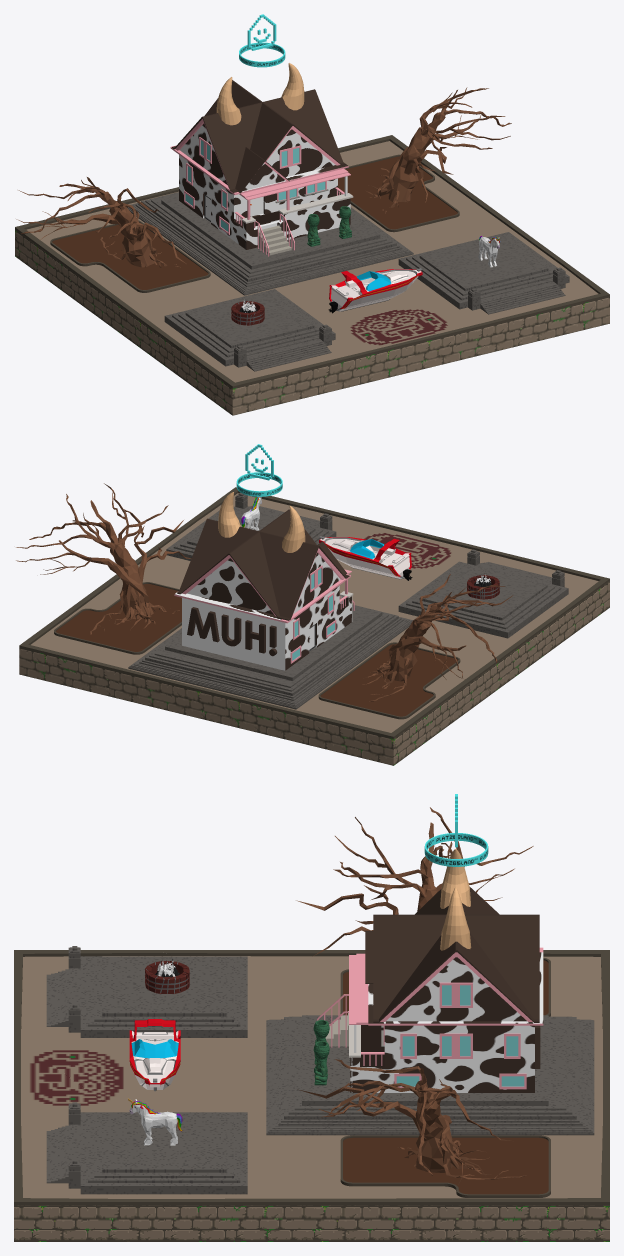
The picture shows the model from 3 angles, top to bottom: view 1: azimuth 30°, elevation 25°; view 2: azimuth 150°, elevation 25°; view 3: azimuth 270°, elevation 25°; orthographic projection. The views are drawn at different scales.
Parts seen in each view (by area): view 1: Cube.011, Cube.1242, VEHICLES_BOAT, TYPE_PREMIUM, OBJRANDOM_CAMPFIRE; view 2: Cube.011, Cube.1242, VEHICLES_BOAT, TYPE_PREMIUM, OBJRANDOM_CAMPFIRE; view 3: Cube.011, Cube.1242, VEHICLES_BOAT, OBJRANDOM_CAMPFIRE, TYPE_PREMIUM, ANIMAL_UNICORNIO.
Part boxes in pixels (x1=…): Cube.011: x1=15, y1=87, x2=609, y2=415; Cube.1242: x1=170, y1=63, x2=353, y2=256; VEHICLES_BOAT: x1=328, y1=268, x2=422, y2=313; TYPE_PREMIUM: x1=239, y1=14, x2=285, y2=67; OBJRANDOM_CAMPFIRE: x1=231, y1=299, x2=264, y2=325; Cube.011: x1=16, y1=483, x2=609, y2=765; Cube.1242: x1=174, y1=492, x2=354, y2=670; VEHICLES_BOAT: x1=319, y1=536, x2=412, y2=580; TYPE_PREMIUM: x1=236, y1=444, x2=282, y2=496; OBJRANDOM_CAMPFIRE: x1=467, y1=574, x2=499, y2=599; Cube.011: x1=14, y1=807, x2=609, y2=1241; Cube.1242: x1=317, y1=849, x2=543, y2=1092; VEHICLES_BOAT: x1=129, y1=1019, x2=180, y2=1091; OBJRANDOM_CAMPFIRE: x1=145, y1=958, x2=189, y2=993; TYPE_PREMIUM: x1=424, y1=794, x2=488, y2=866; ANIMAL_UNICORNIO: x1=128, y1=1098, x2=182, y2=1145.
Size of the model in its own units: 5099 by 2417 by 4000.
Materials: 43 (7 with a texture image).
